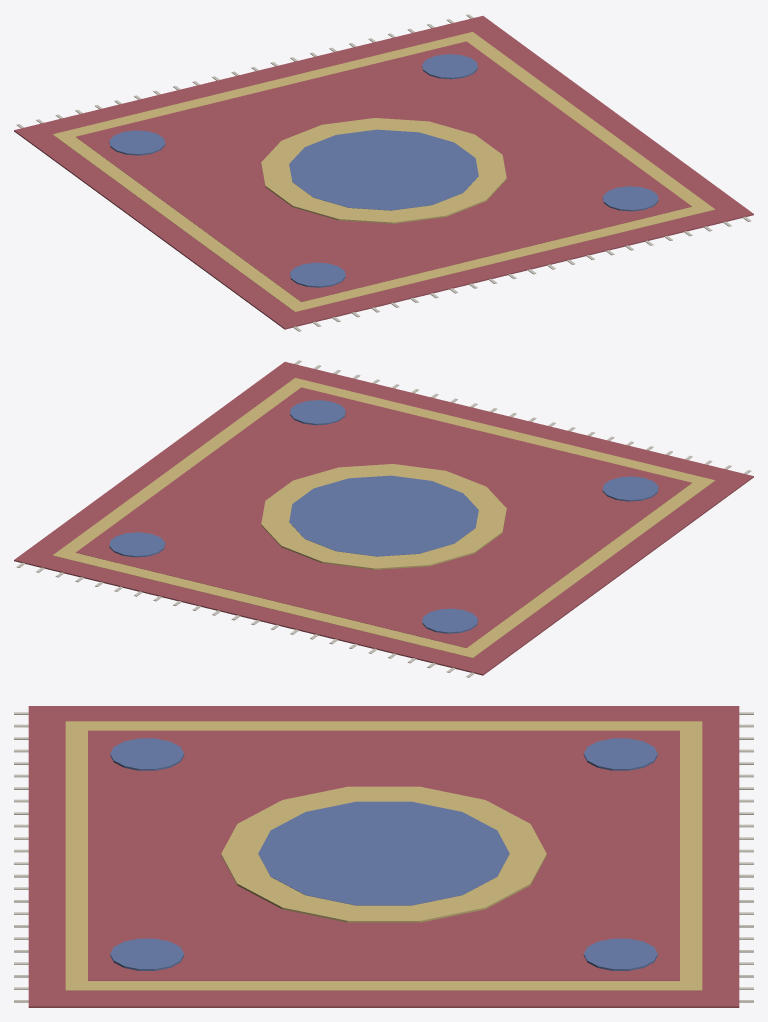
The model's file is rug.glb.
3 renders of one model, top to bottom at view 1: azimuth 30°, elevation 25°; view 2: azimuth 150°, elevation 25°; view 3: azimuth 270°, elevation 25°, orthographic. The views are drawn at different scales.
Visible parts, largest first — view 1: rug; view 2: rug; view 3: rug.
Boxes of the visible parts, box(x1,y1,x2,y2) form: rug: box(14, 14, 753, 331); rug: box(14, 360, 753, 677); rug: box(14, 706, 753, 1007).
Bounding box in the file's own units: 4.8 × 0.032 × 5.
